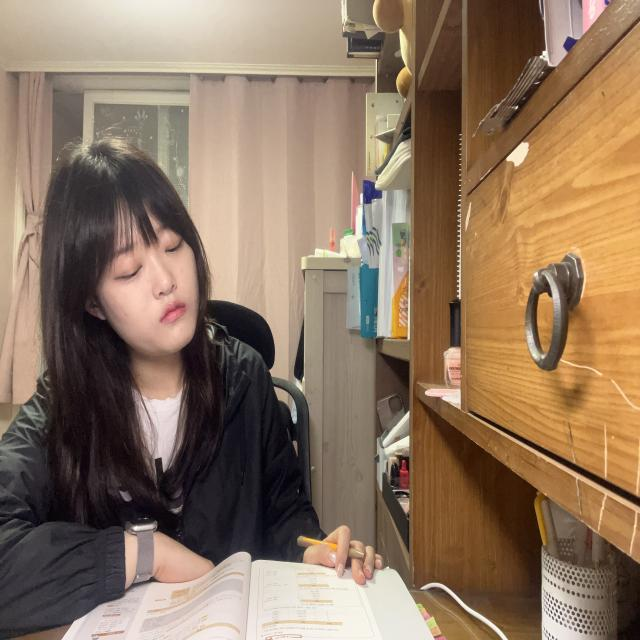studying-person: (2, 117, 451, 640)
